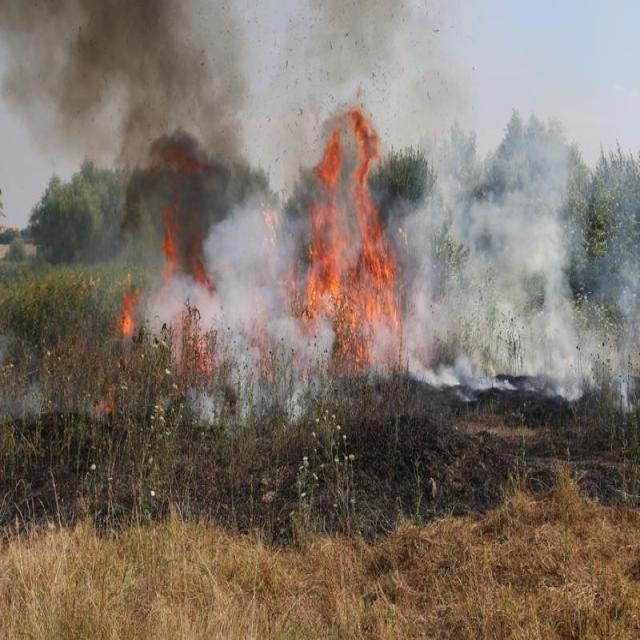Fire: (304, 112, 406, 370), (120, 303, 140, 339)
Smoke: (0, 0, 294, 414), (393, 9, 640, 406)
